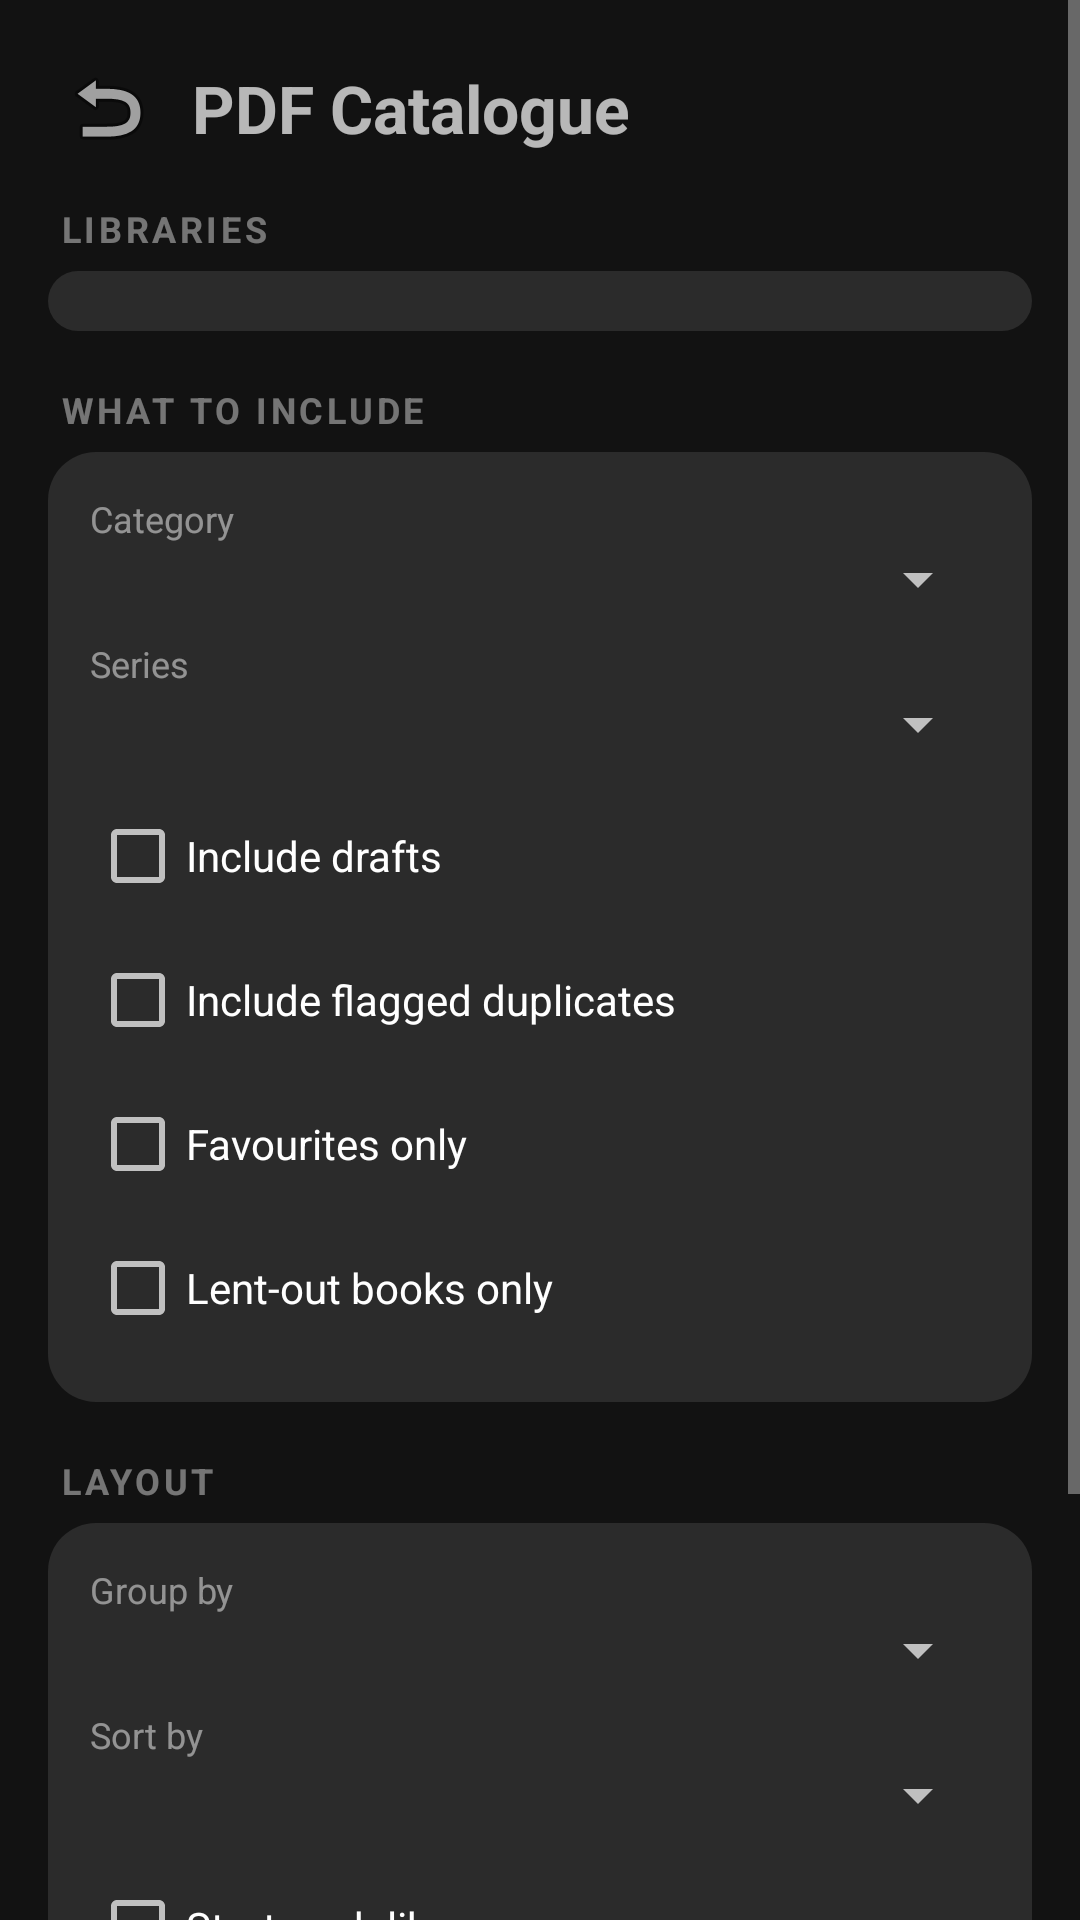

Locate icon controls on the screen. Image size 1080w x 1920h, boxes as (x1, y1, x2, y2).
Back: (78, 80, 141, 137)
